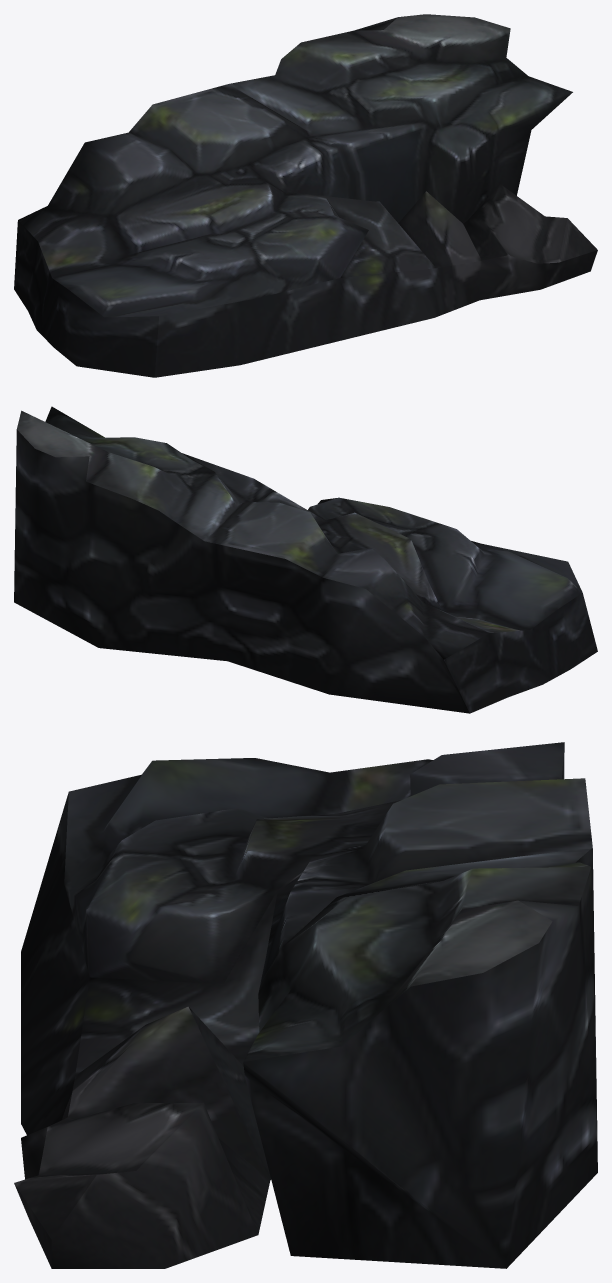
Rendered from Mine_shitou03.FBX.
3 renders of one model, top to bottom at view 1: azimuth 30°, elevation 25°; view 2: azimuth 150°, elevation 25°; view 3: azimuth 270°, elevation 25°, orthographic. The views are drawn at different scales.
Visible parts, largest first — view 1: shitou03; view 2: shitou03; view 3: shitou03.
Part boxes in pixels (x1=…): shitou03: x1=14, y1=14, x2=597, y2=377; shitou03: x1=14, y1=406, x2=597, y2=713; shitou03: x1=14, y1=742, x2=597, y2=1268.
Bounding box in the file's own units: 241 × 73.62 × 130.
